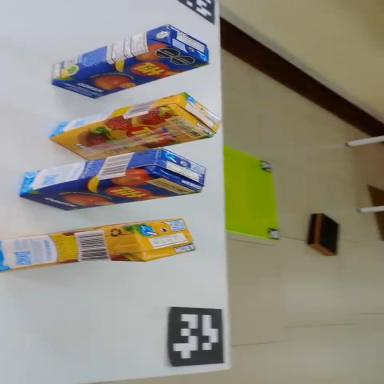HIT-MANGO: (45, 16, 212, 110), (16, 142, 208, 217)
HIT-MORA: (47, 88, 222, 167), (0, 219, 195, 272)
cara_F: (51, 36, 209, 110), (50, 103, 212, 167), (19, 166, 200, 217)
